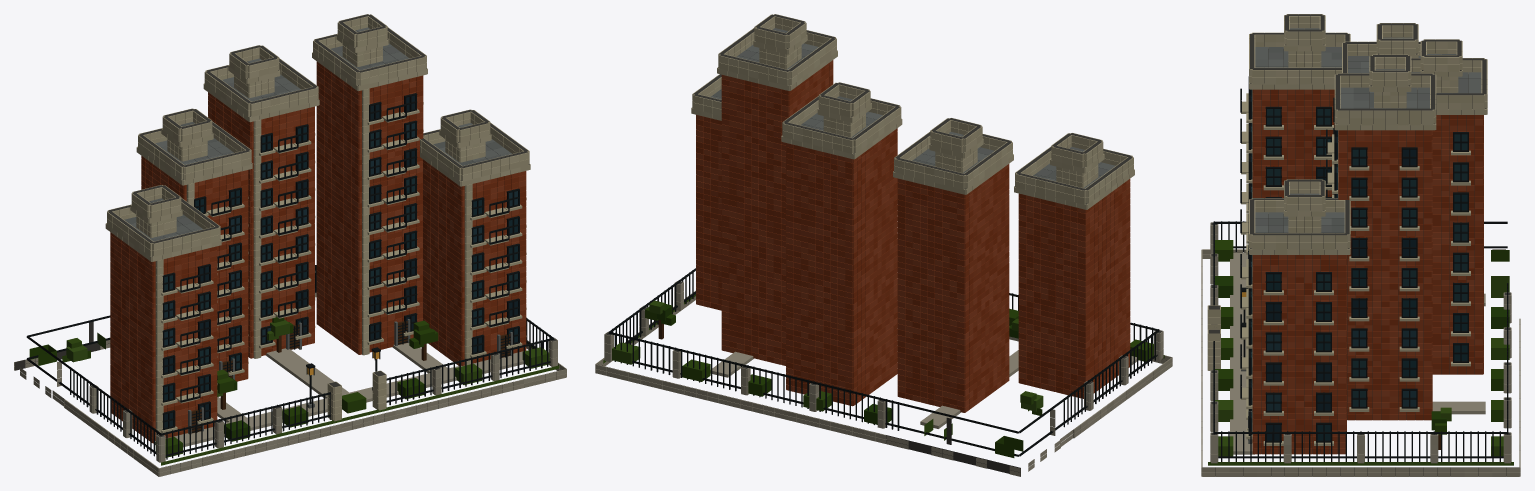
The model's file is SM_StreetFrontage_078.fbx.
3 renders of one model, left to right at view 1: azimuth 30°, elevation 25°; view 2: azimuth 150°, elevation 25°; view 3: azimuth 270°, elevation 25°, orthographic. The views are drawn at different scales.
Parts seen in each view (by area): view 1: SM_StreetFrontage_078; view 2: SM_StreetFrontage_078; view 3: SM_StreetFrontage_078.
Boxes of the visible parts, x1,y1,x2,y2 form: SM_StreetFrontage_078: [14, 14, 566, 476]; SM_StreetFrontage_078: [595, 14, 1172, 476]; SM_StreetFrontage_078: [1201, 14, 1520, 476].
Bounding box in the file's own units: 32 × 19.74 × 23.89.
